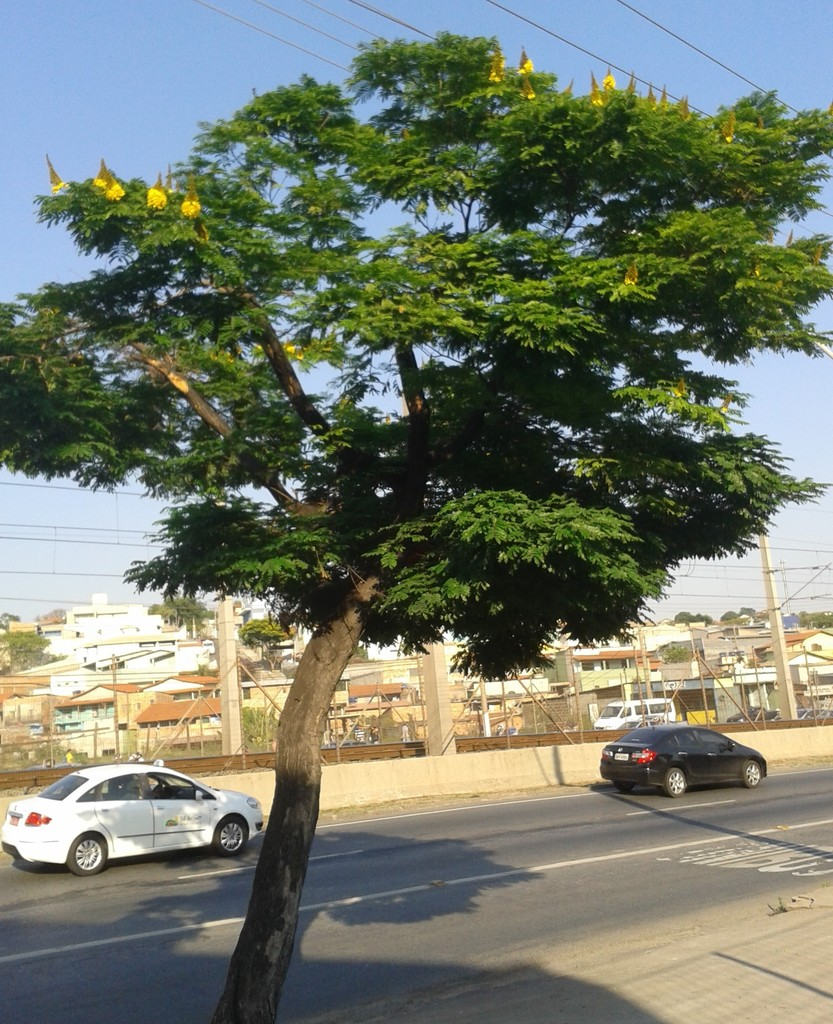Car: (1, 758, 270, 884), (594, 723, 763, 800)
